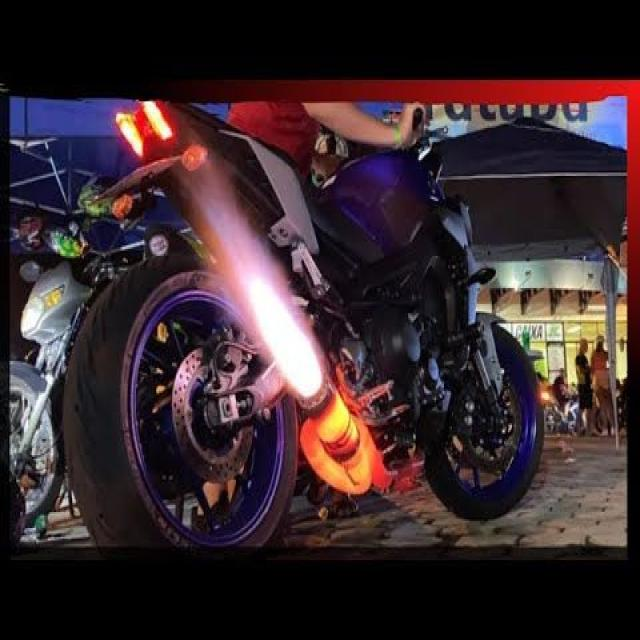fire: (247, 274, 322, 398), (591, 334, 614, 436), (575, 337, 595, 436)
